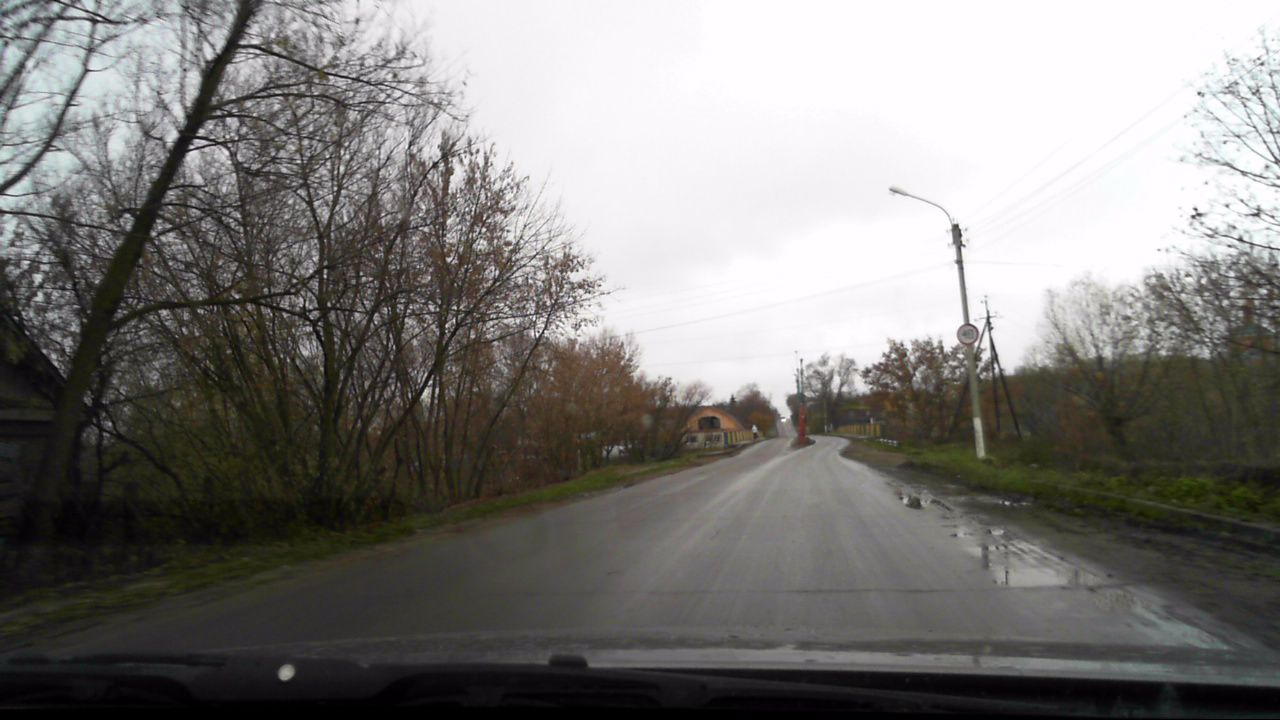speed_warning_40: (956, 323, 979, 346)
